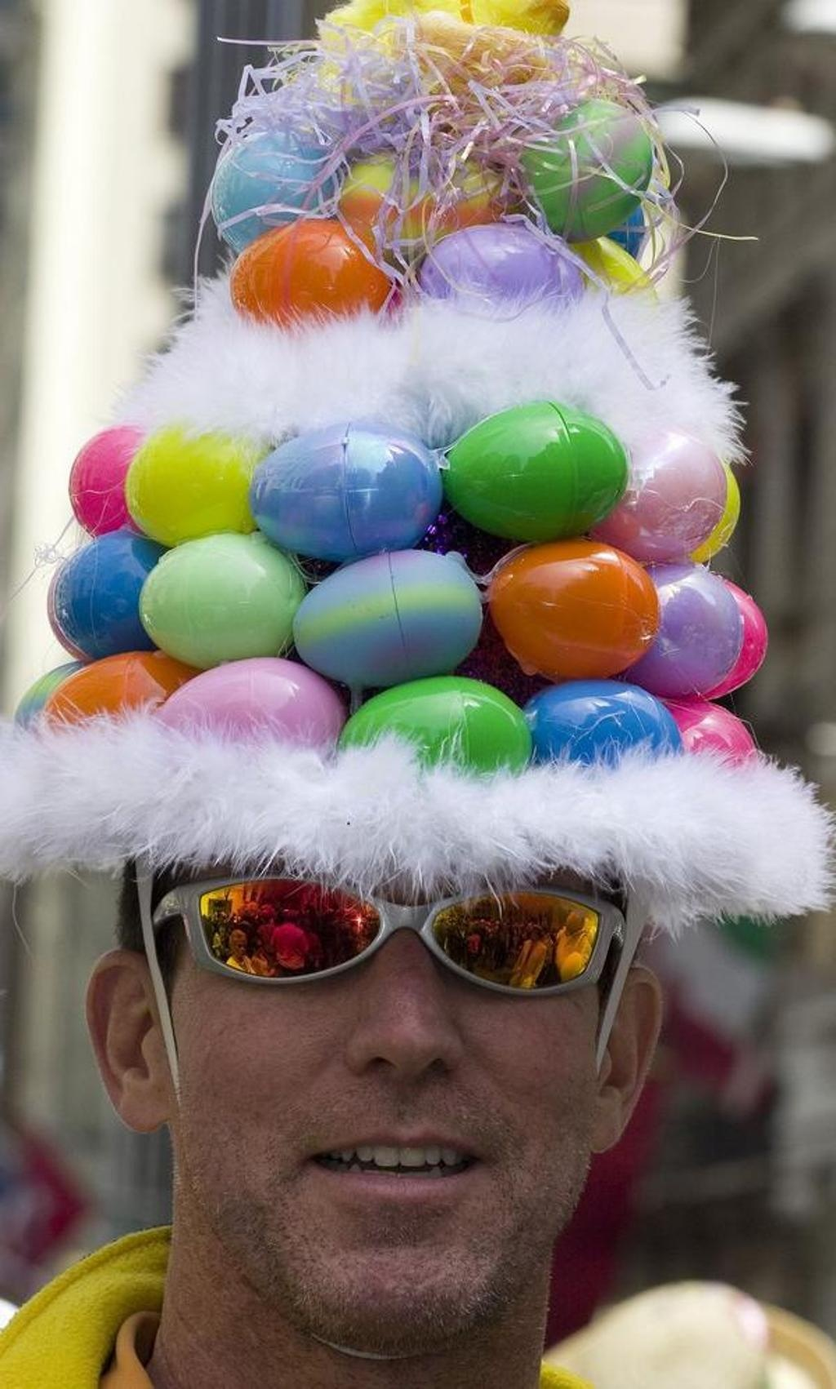human_face: (170, 724, 599, 1357)
